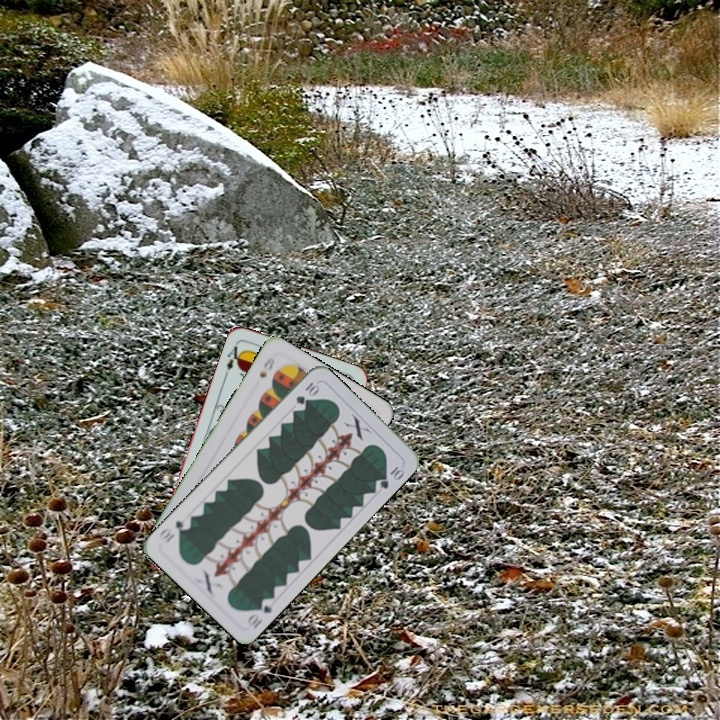EA: (222, 339, 246, 373)
G10: (243, 594, 275, 632), (292, 378, 322, 407)
S8: (255, 353, 277, 381)
